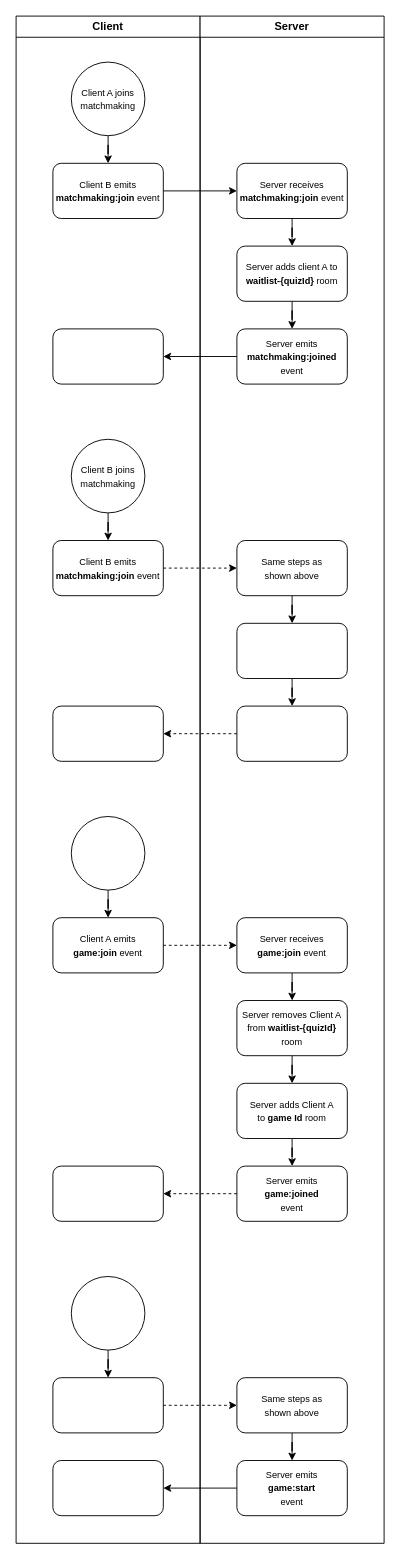
This 400x1559 diagram has some shape labels left out. Here are the shapes that lost their labels. From the top down, the centre of each, then its label:
pixel 107 356: Client A receives matchmaking:joined event
pixel 291 650: Server creates game Id
pixel 107 733: Client A and B receive game:ready event
pixel 291 733: Server emits game:ready event to waitlist-{quizId} room
pixel 107 853: Client A joins game at game Id
pixel 107 1193: Client B receives game:joined event
pixel 107 1313: Client B joins game at game Id
pixel 107 1405: Client B emits game:join event
pixel 107 1488: Client A and B receive game:start event
